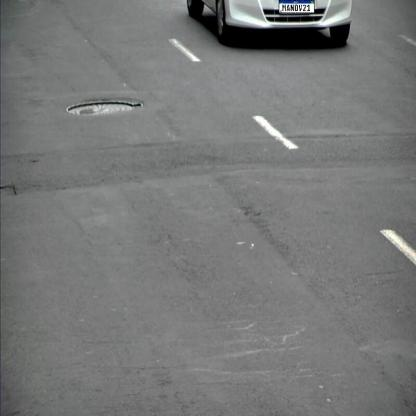PlacaM: (278, 0, 314, 13)
